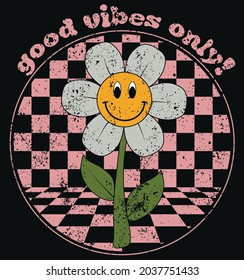flower: (60, 43, 190, 251)
